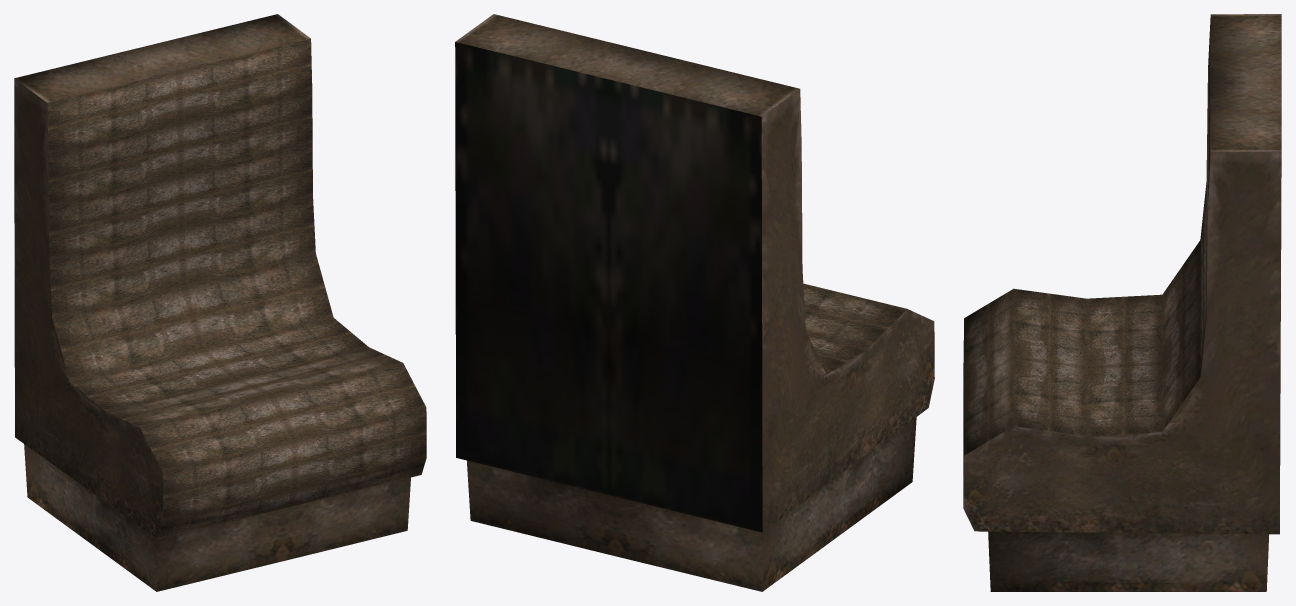
File: thm_frn_chair_s01_l1.fbx
3 renders of one model, left to right at view 1: azimuth 30°, elevation 25°; view 2: azimuth 150°, elevation 25°; view 3: azimuth 270°, elevation 25°, orthographic. The views are drawn at different scales.
Parts seen in each view (by area): view 1: mesh_node; view 2: mesh_node; view 3: mesh_node.
Boxes of the visible parts, <box> form: mesh_node: <box>14,14,426,591</box>; mesh_node: <box>455,14,934,591</box>; mesh_node: <box>963,14,1281,591</box>.
Bounding box in the file's own units: 0.7254 × 1.09 × 0.7097.
1 material, 1 textured.
